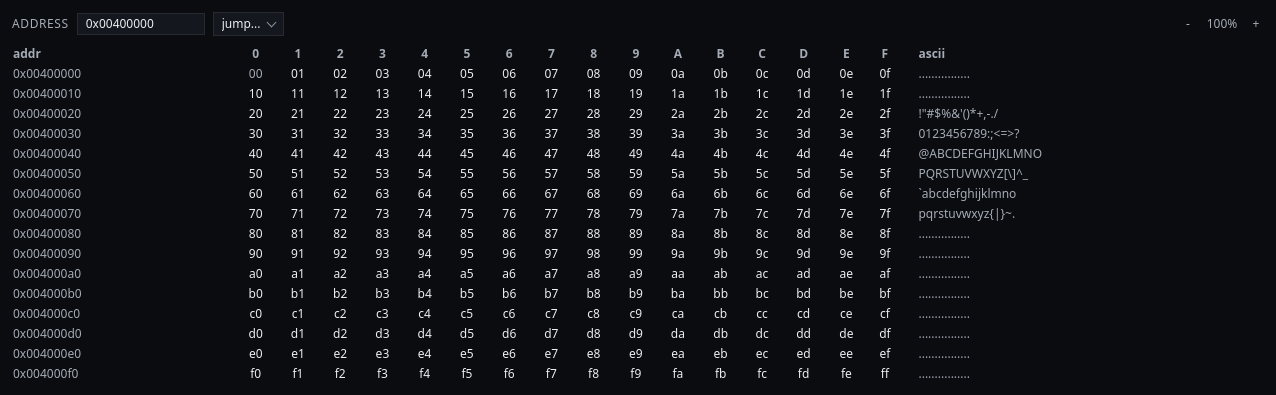
Test: MemoryPanel region label › falls back to the panel's own jump list and no label without the map
The image size is (1276, 395).
Click the dropdown named "jump to section" at coordinates (249, 24), box [213,12,284,36]
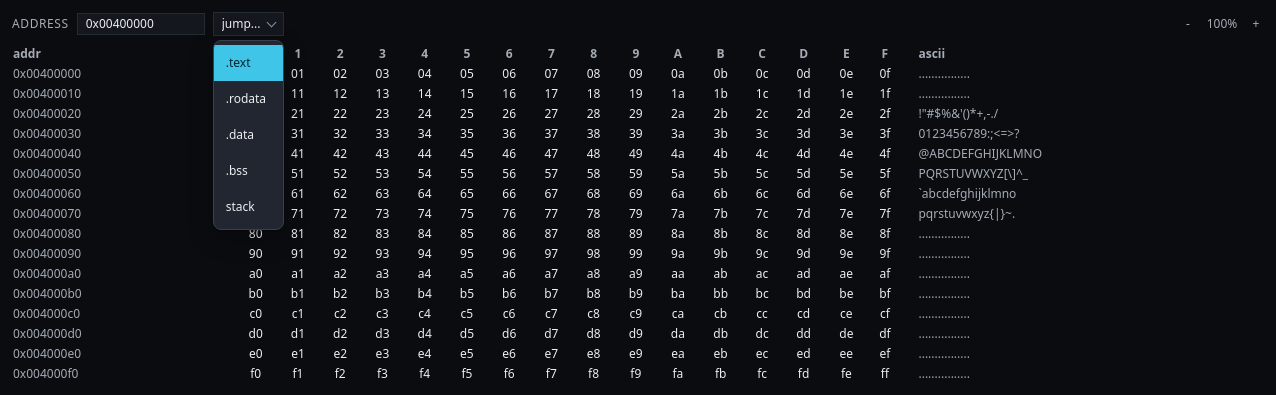
Expected: the options read ".text", ".rodata", ".data", ".bss", "stack", in this order, [214,45,284,81]; [226,90,266,107]; [226,126,254,143]; [226,162,248,179]; [226,198,255,215]
